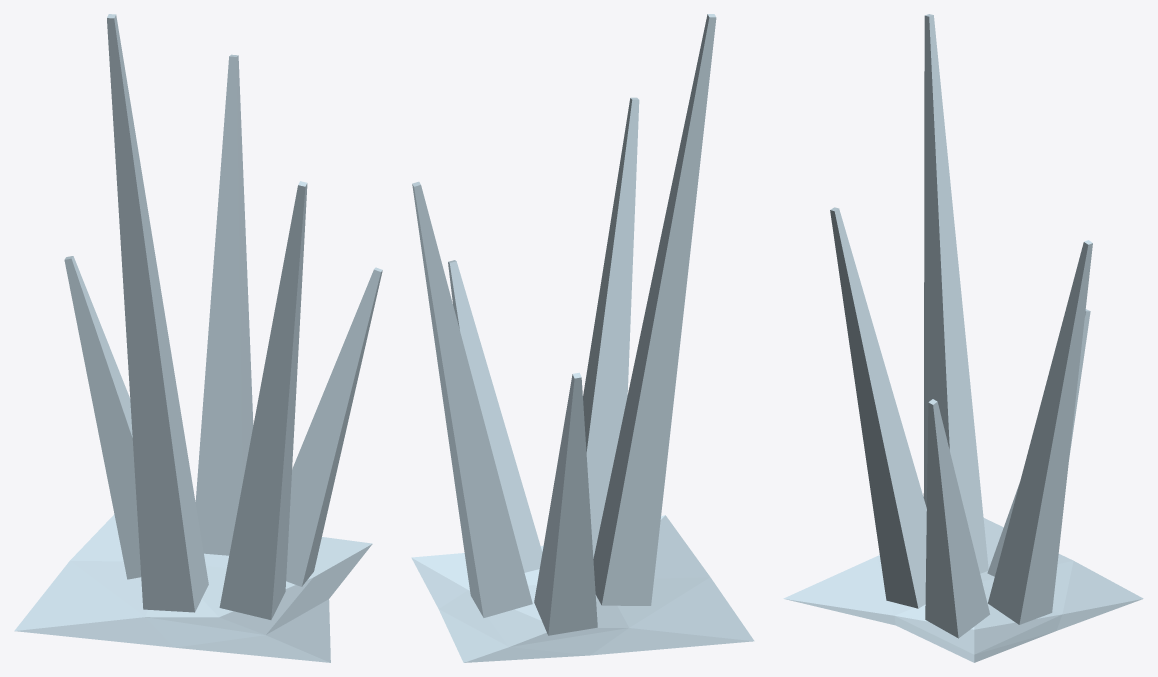
The model's file is ice_shard_v02.glb.
3 renders of one model, left to right at view 1: azimuth 30°, elevation 25°; view 2: azimuth 150°, elevation 25°; view 3: azimuth 270°, elevation 25°, orthographic. The views are drawn at different scales.
Parts seen in each view (by area): view 1: lod0; view 2: lod0; view 3: lod0.
Part boxes in pixels (x1,y1,x2,y2): lod0: (14,14,382,662); lod0: (411,14,754,662); lod0: (783,14,1143,662).
Size of what is drawn, in the model's own units: 0.7609 by 1.32 by 0.7752.
